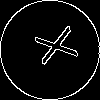X: (25, 25, 79, 70)
